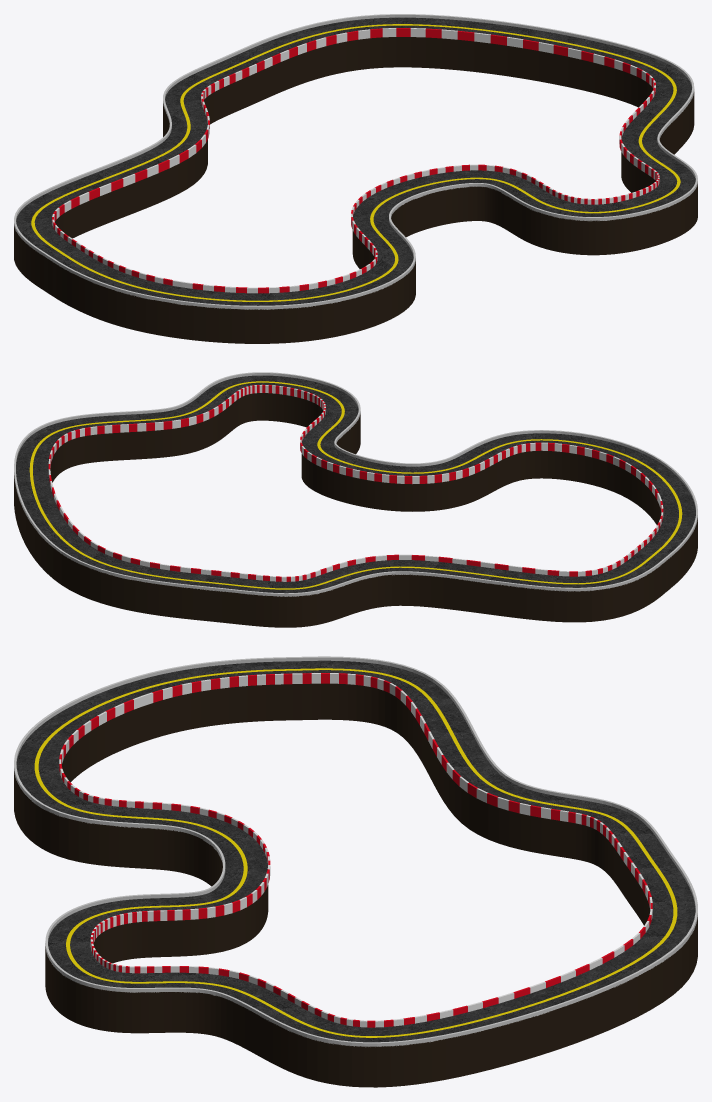
Rendered from track.fbx.
The picture shows the model from 3 angles, top to bottom: view 1: azimuth 30°, elevation 25°; view 2: azimuth 150°, elevation 25°; view 3: azimuth 270°, elevation 25°; orthographic projection. The views are drawn at different scales.
Visible parts, largest first — view 1: NurbsCurve, NurbsCurve.001, NurbsCurve.003, NurbsCurve.002; view 2: NurbsCurve, NurbsCurve.001, NurbsCurve.003, NurbsCurve.002; view 3: NurbsCurve, NurbsCurve.001, NurbsCurve.003, NurbsCurve.002.
Part boxes in pixels (x1=…): NurbsCurve: x1=14, y1=37, x2=697, y2=343; NurbsCurve.001: x1=16, y1=17, x2=695, y2=305; NurbsCurve.003: x1=52, y1=28, x2=659, y2=293; NurbsCurve.002: x1=14, y1=14, x2=697, y2=309; NurbsCurve: x1=14, y1=393, x2=697, y2=627; NurbsCurve.001: x1=16, y1=375, x2=695, y2=593; NurbsCurve.003: x1=48, y1=384, x2=663, y2=581; NurbsCurve.002: x1=14, y1=372, x2=697, y2=596; NurbsCurve: x1=14, y1=683, x2=697, y2=1087; NurbsCurve.001: x1=16, y1=660, x2=695, y2=1042; NurbsCurve.003: x1=59, y1=673, x2=652, y2=1027; NurbsCurve.002: x1=14, y1=656, x2=697, y2=1047.
Bounding box in the file's own units: 5663 × 320 × 4232.
